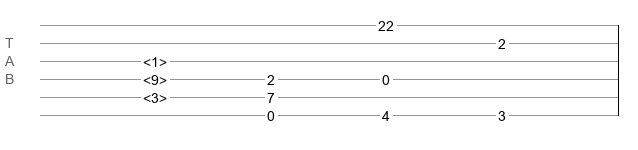0: (267, 108, 275, 118), (382, 72, 390, 82)
2: (267, 72, 275, 82), (498, 36, 506, 46)
22: (378, 18, 394, 28)
3: (498, 108, 506, 118)
4: (382, 108, 390, 118)
7: (267, 90, 275, 100)
harmonic: (143, 54, 167, 64), (143, 72, 167, 82), (143, 90, 167, 100)
